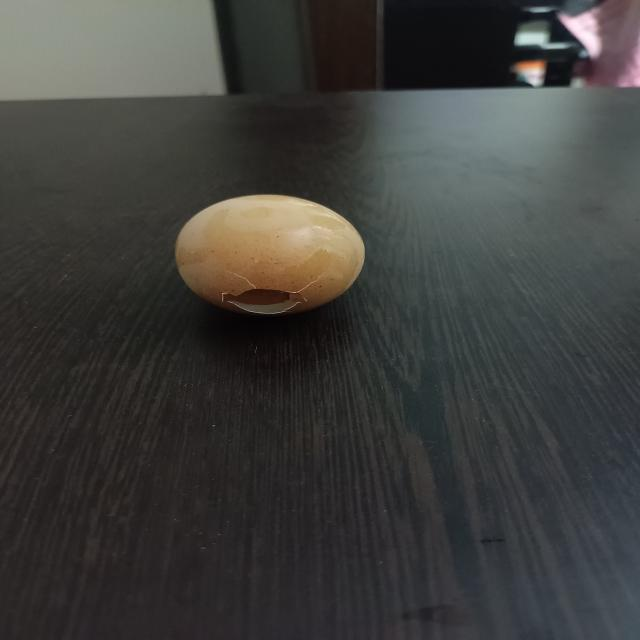biodegradable: (170, 192, 368, 322)
